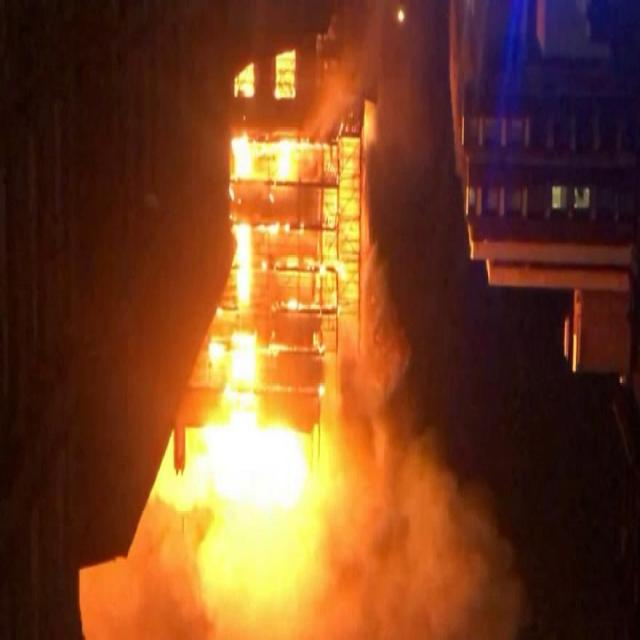fire: (165, 2, 369, 515)
